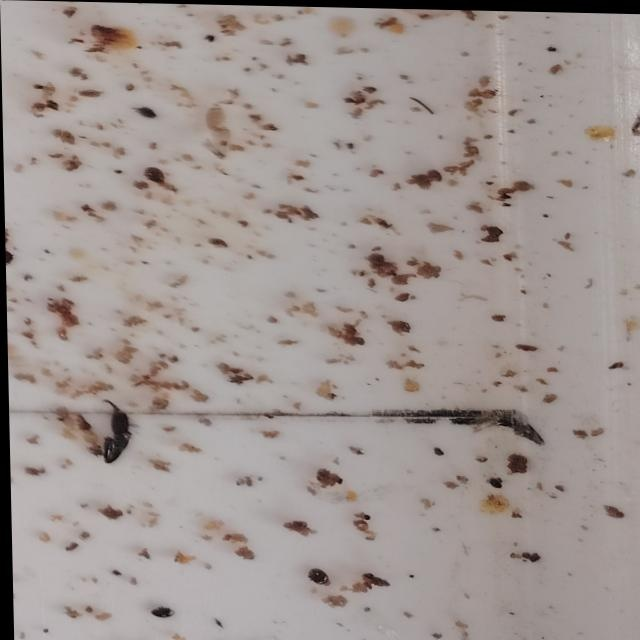varroa: (144, 167, 165, 186), (307, 568, 327, 587), (147, 606, 174, 620), (5, 249, 16, 269)
